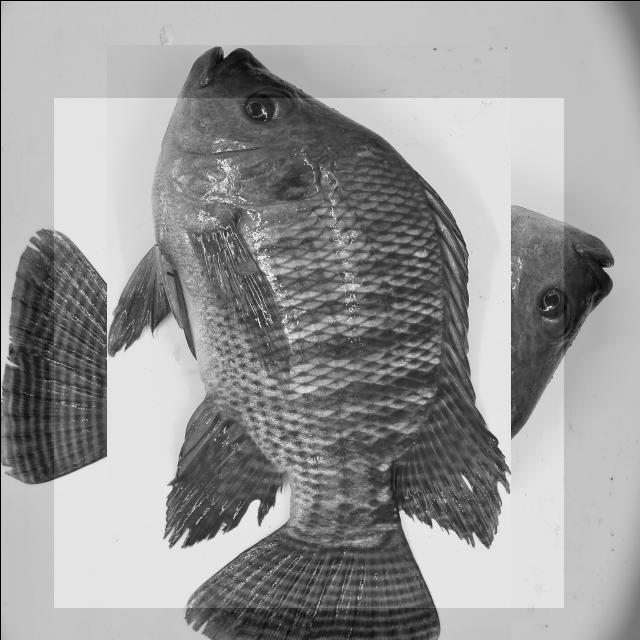Healthy Fish: (53, 97, 563, 607)
